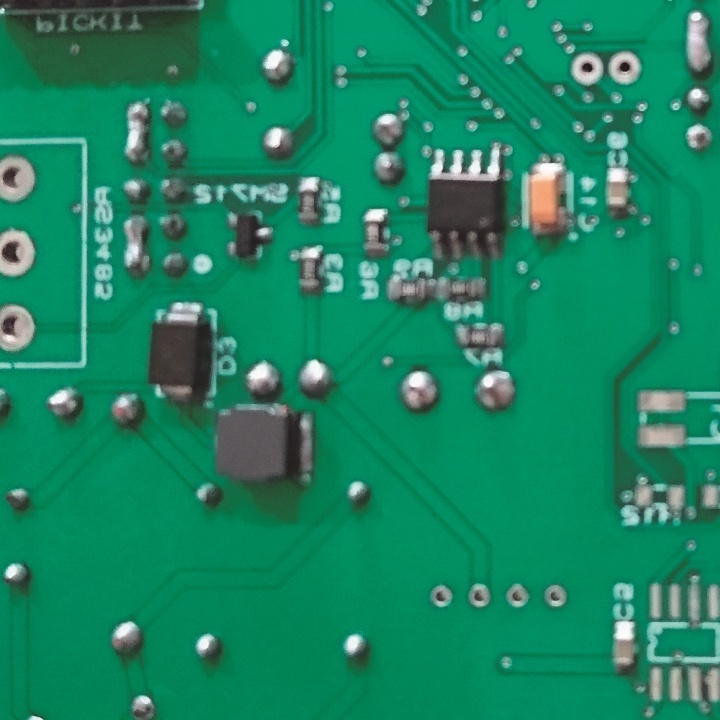F: (1, 226, 41, 278), (1, 304, 40, 356), (1, 155, 38, 203), (609, 52, 643, 87), (571, 53, 605, 85), (543, 579, 569, 614), (504, 580, 531, 612), (429, 579, 456, 609), (466, 580, 495, 607), (685, 125, 712, 153)
P: (681, 9, 712, 78), (119, 215, 151, 275), (124, 96, 149, 163)
